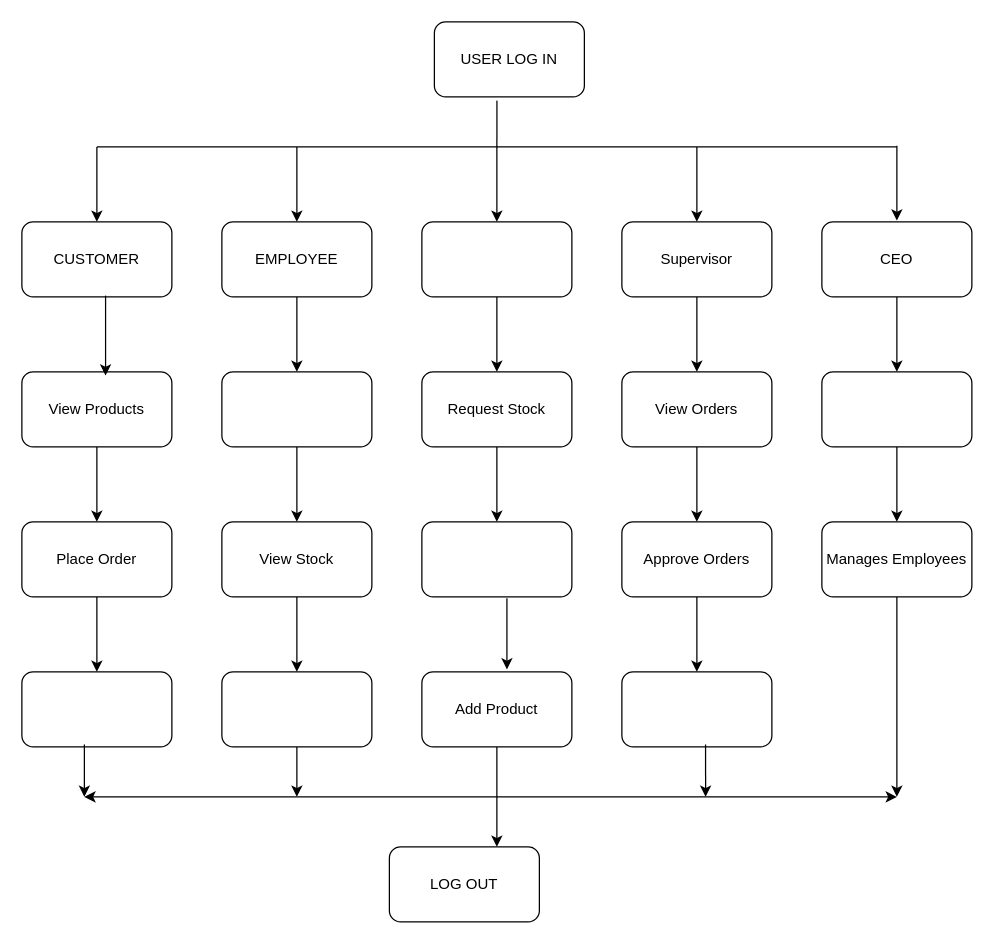
This 994x944 diagram has some shape labels left out. The box of each missing label's shape, as (x1, y1, x2, y2) in pixels:
Alert Manager about Stock: (221, 671, 372, 747)
Choose Supplier: (421, 521, 572, 597)
MANAGER: (421, 221, 572, 297)
Manages Suppliers: (821, 371, 972, 447)
Track Orders: (221, 371, 372, 447)
View Order: (21, 671, 172, 747)
View Purchases: (621, 671, 772, 747)
